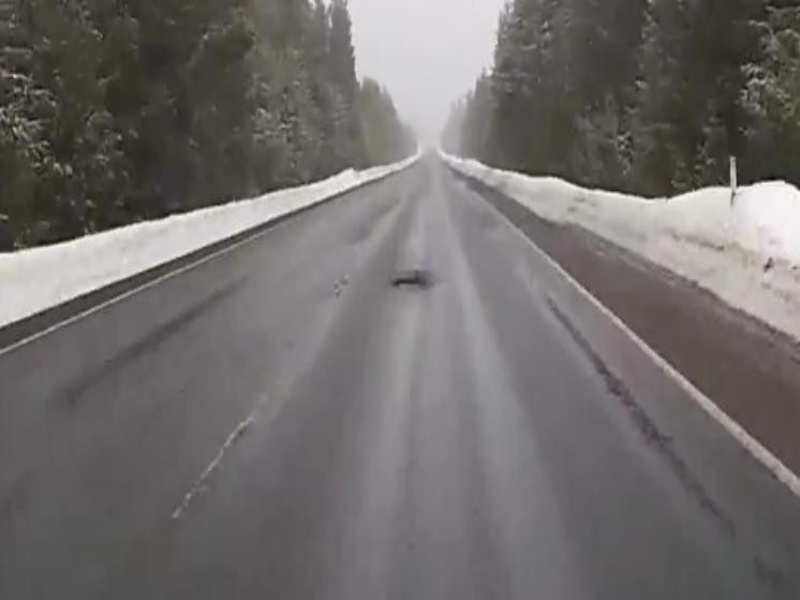pothole: (390, 277, 432, 292)
